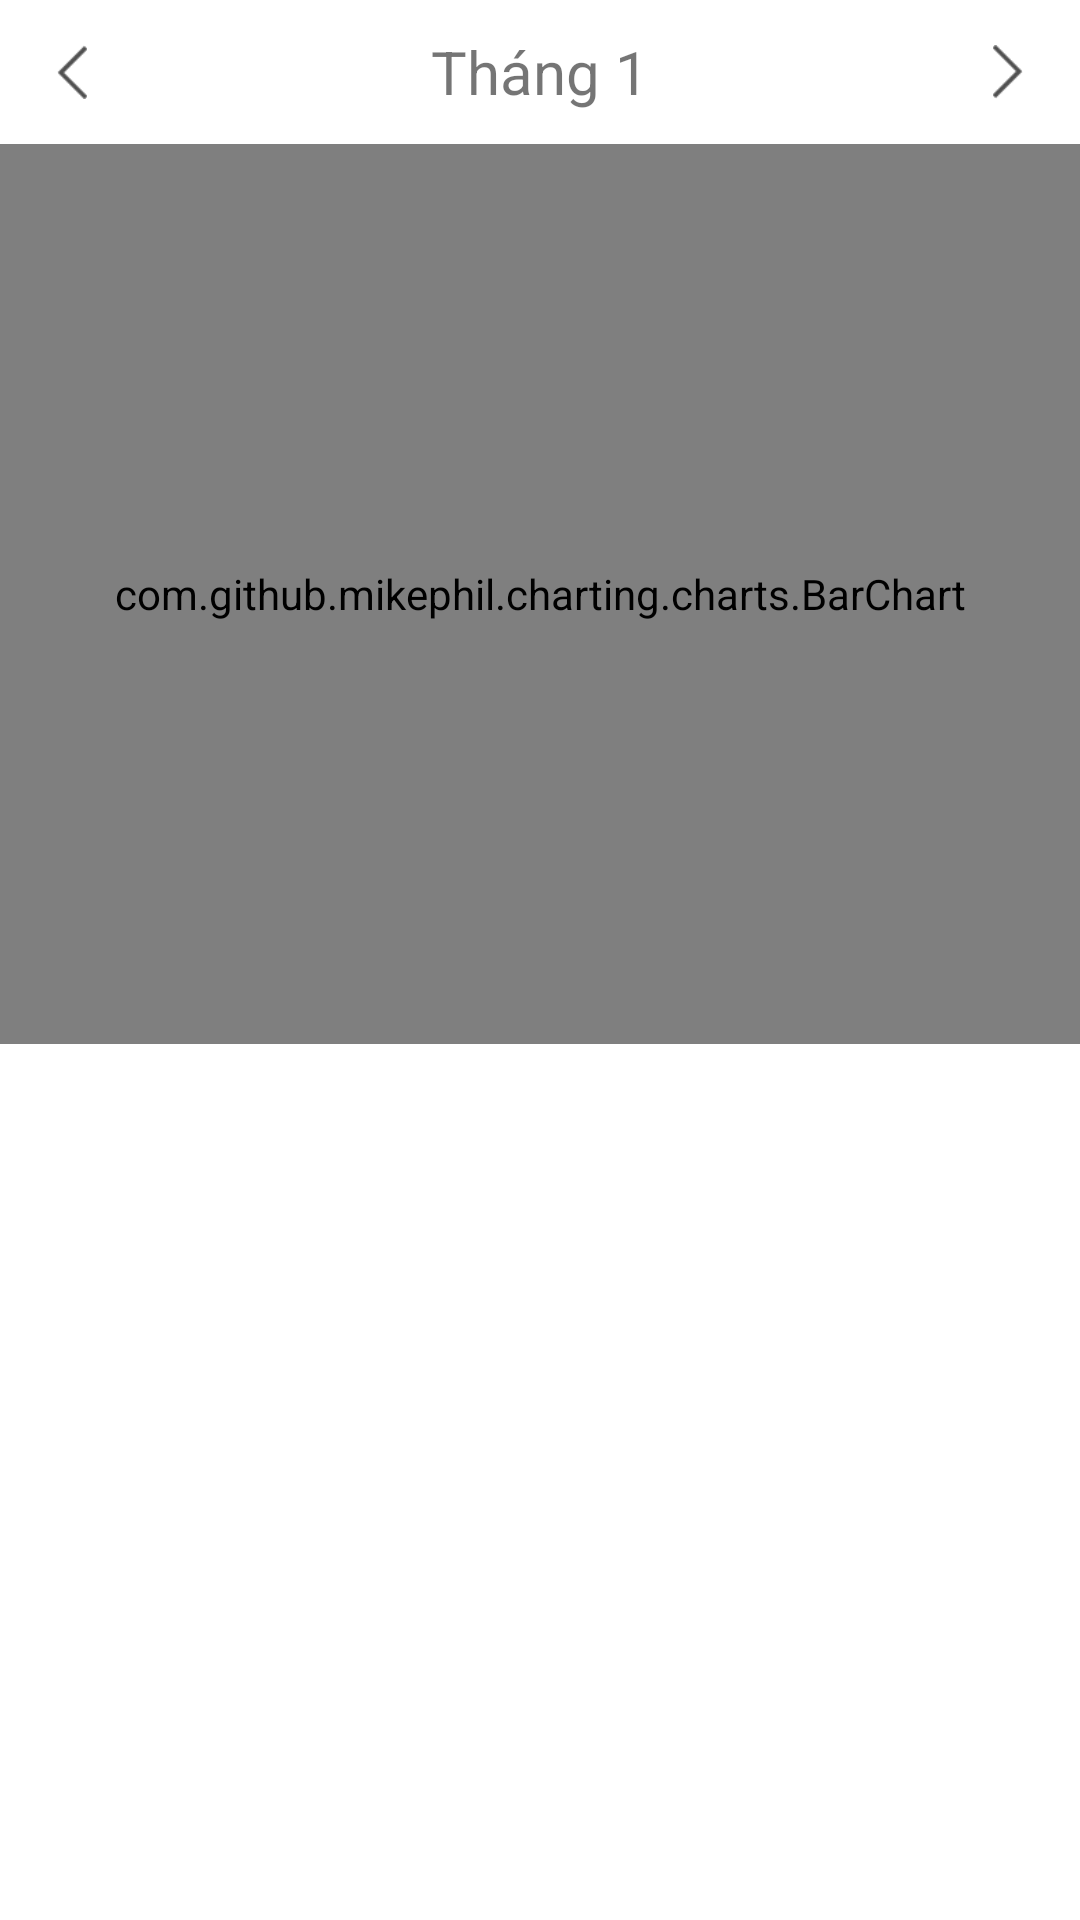

Where to tap for icons on this 1080x1920 app screen, as [x,y]:
arrow left: [72,72]
arrow right: [1007,71]
